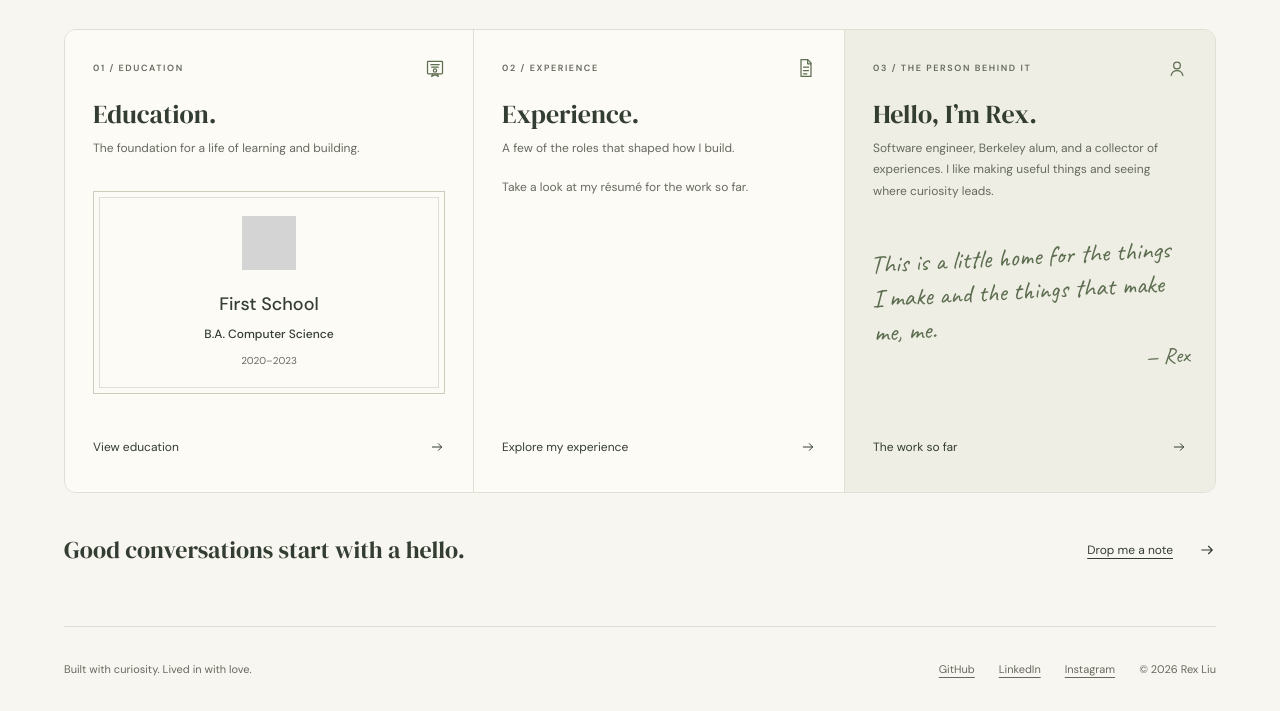
Test: published education entries appear without a résumé link
(page scrolled)
Expected: the text "First School" is shown, [219,292,319,316]
Click the button "View education": (136, 447) [93,420,445,464]
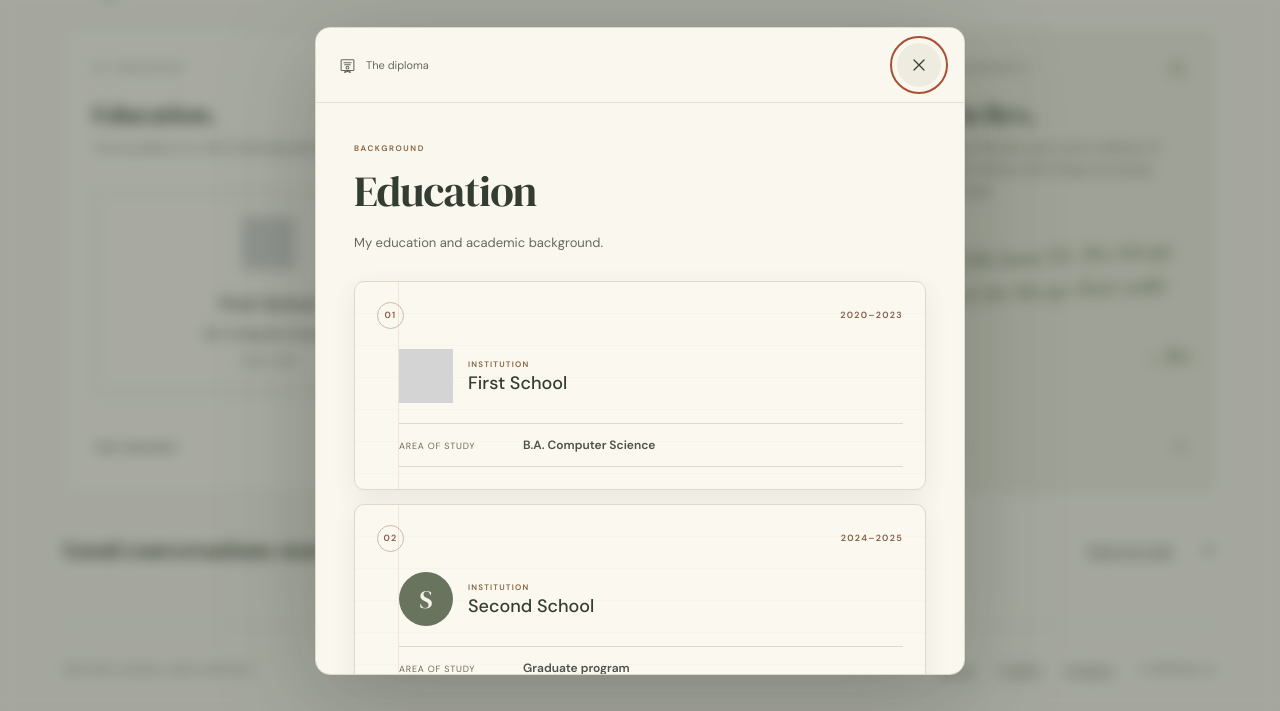
Expected: the headings read "First School", "Second School", in this order, [468,371,567,395]; [468,594,594,618]
